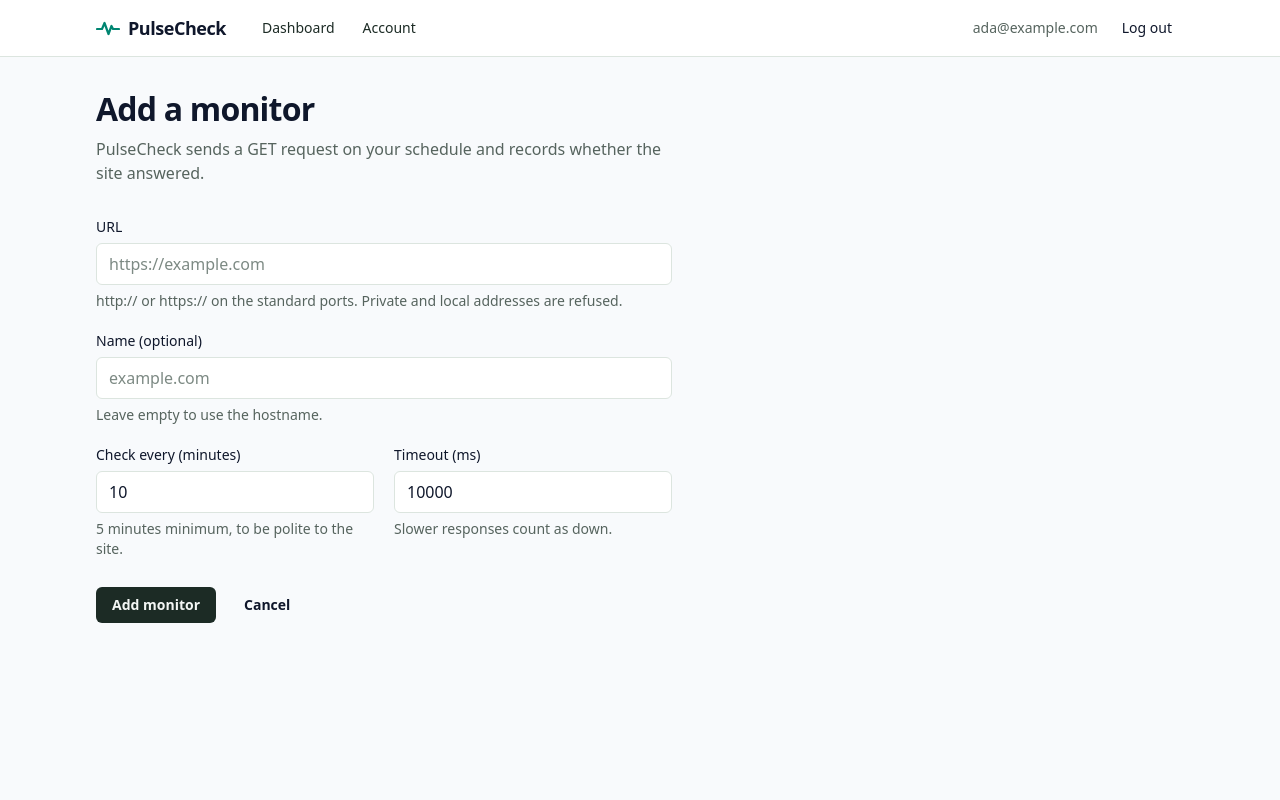
MonitorForm › validates the URL and interval before sending
Type "ftp://example.com" into the field labelled "URL" at (384, 264), box [96, 243, 672, 285]
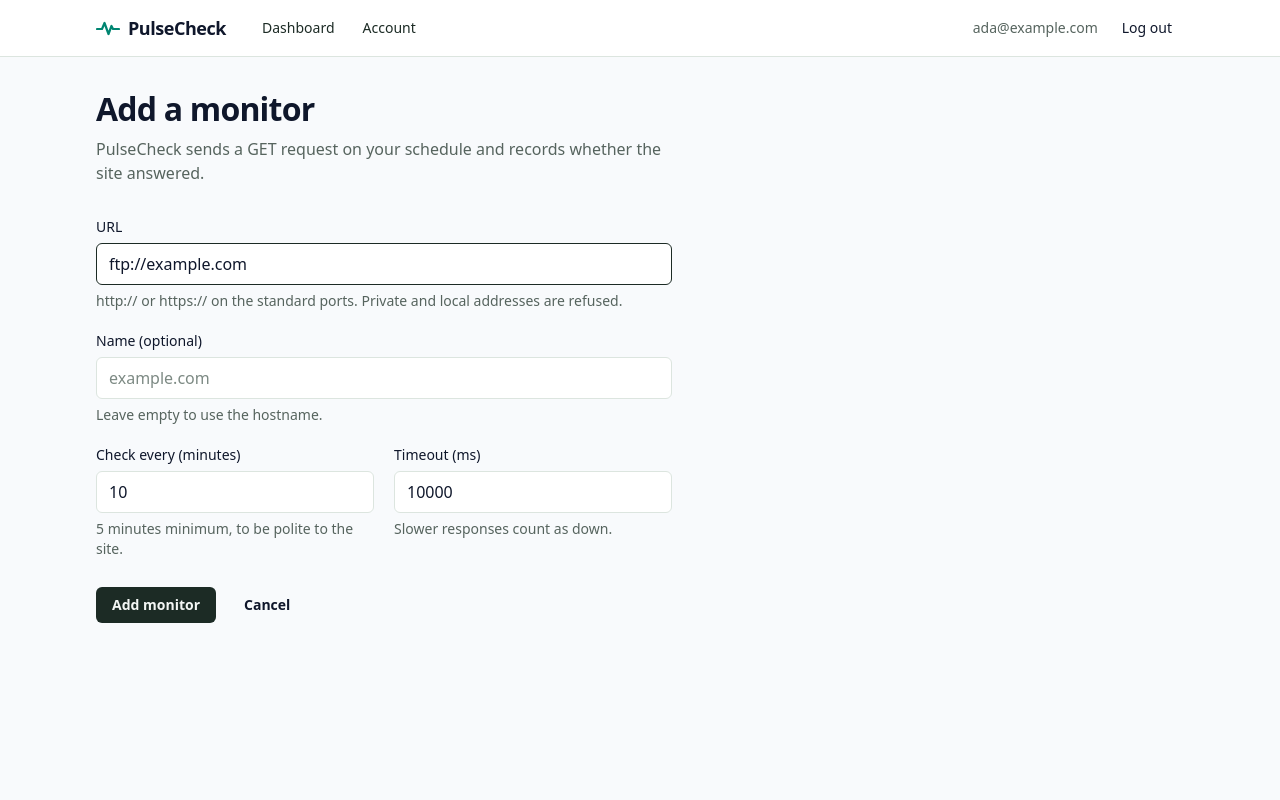
Replace the text in the number field labelled "Check every (minutes)" with "1" at (235, 492), box [96, 471, 374, 513]
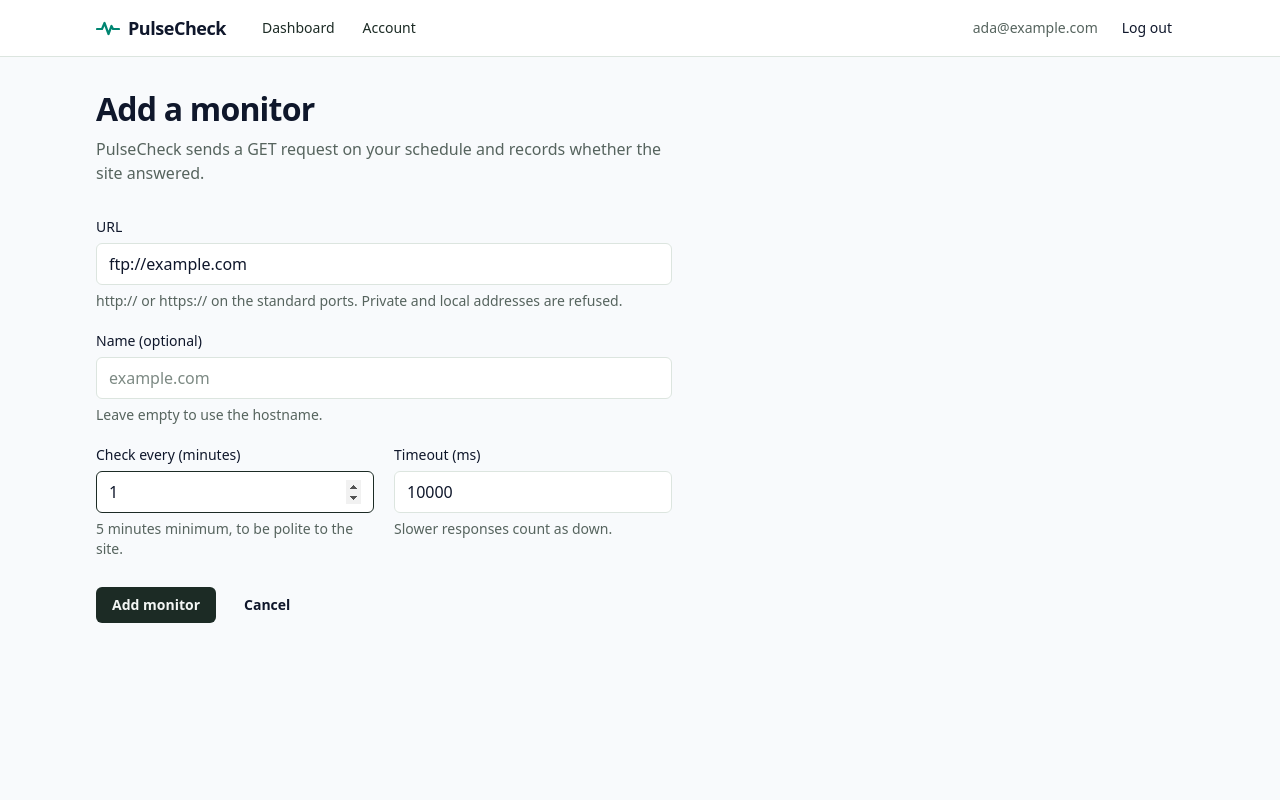
Click the button "Add monitor" at (156, 605), box [96, 587, 216, 623]
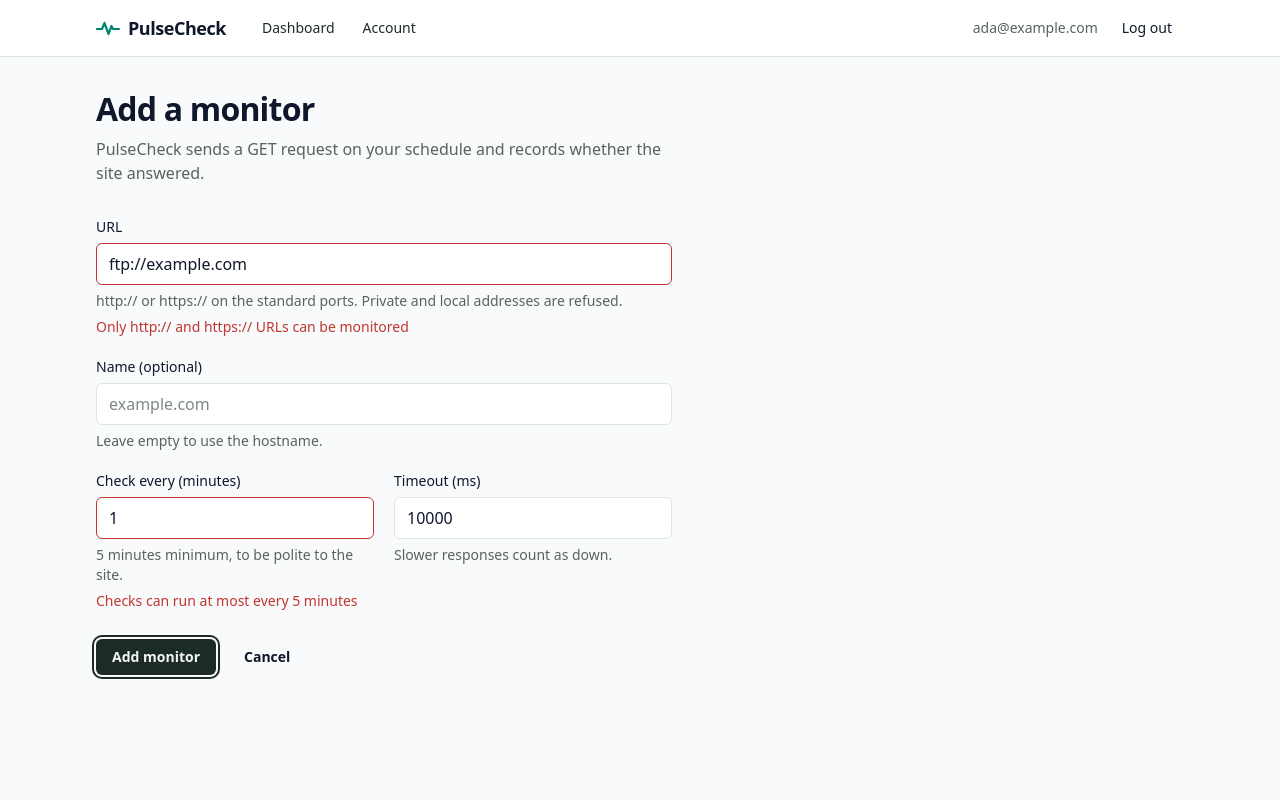
Check: the text "Only http:// and https:// URLs can be monitored" is shown, box [96, 317, 409, 336]
Check: the text "Checks can run at most every 5 minutes" is shown, box [96, 591, 374, 611]
